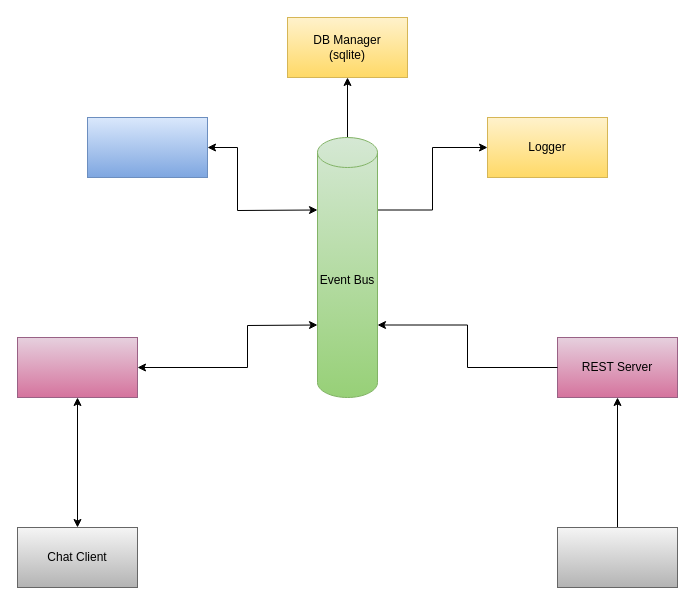
Some shapes in this 695 by 605 pixel diagram are drawn without their labels. The centre of each missing label's shape, as x and y in pixels:
Admin Client: point (617, 557)
Client Manager: point (147, 147)
Websocket Server: point (77, 367)
